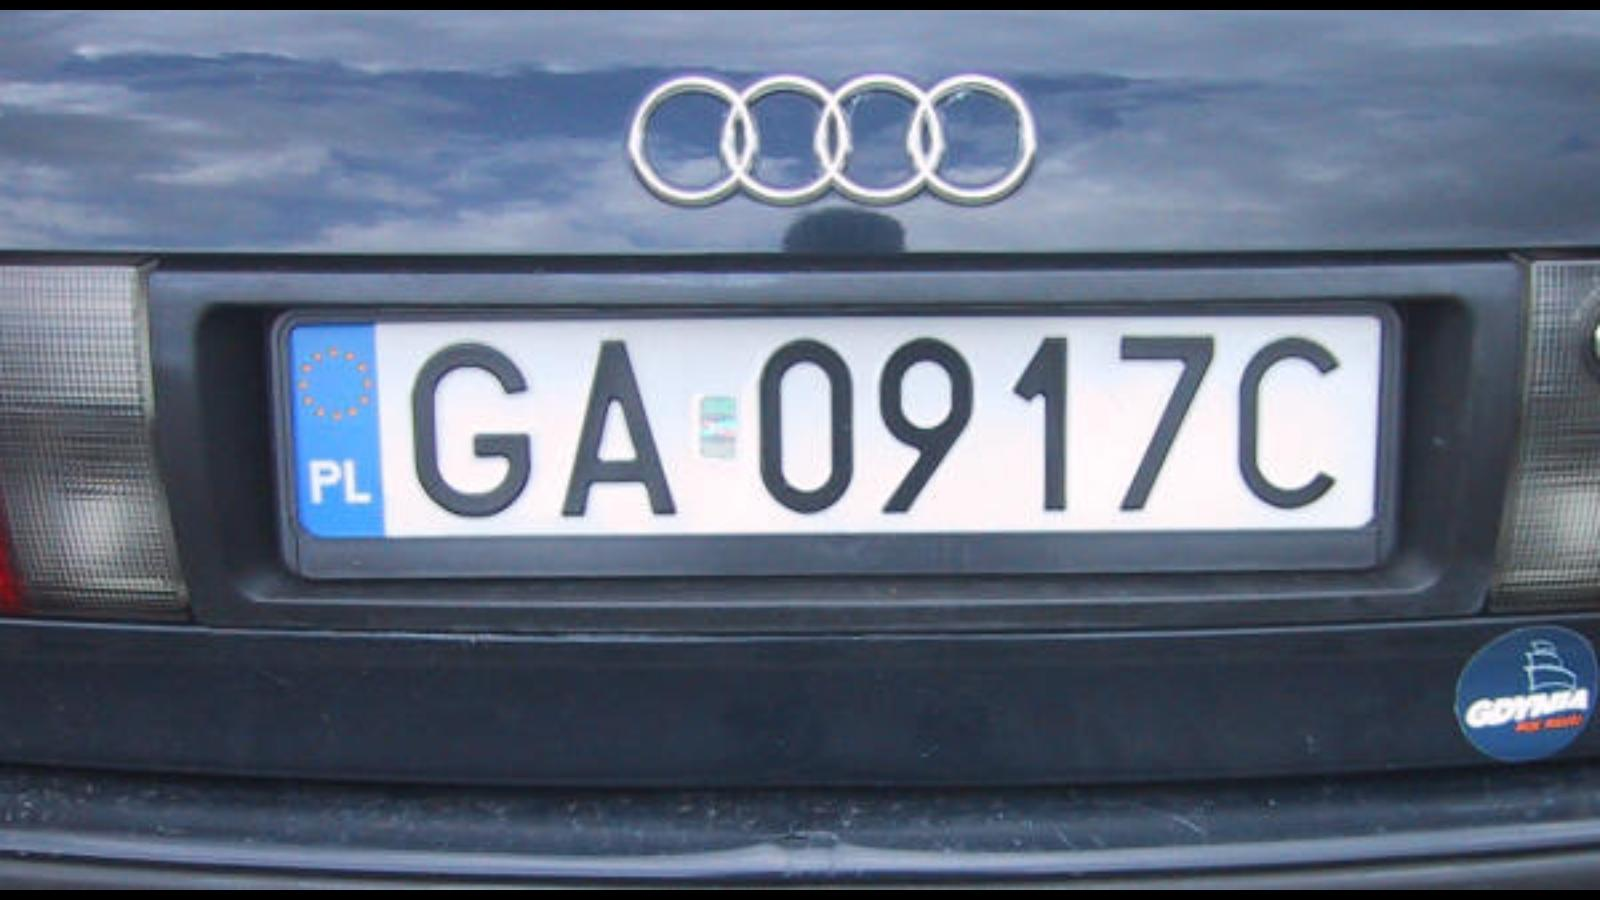plates: (271, 296, 1402, 578)
